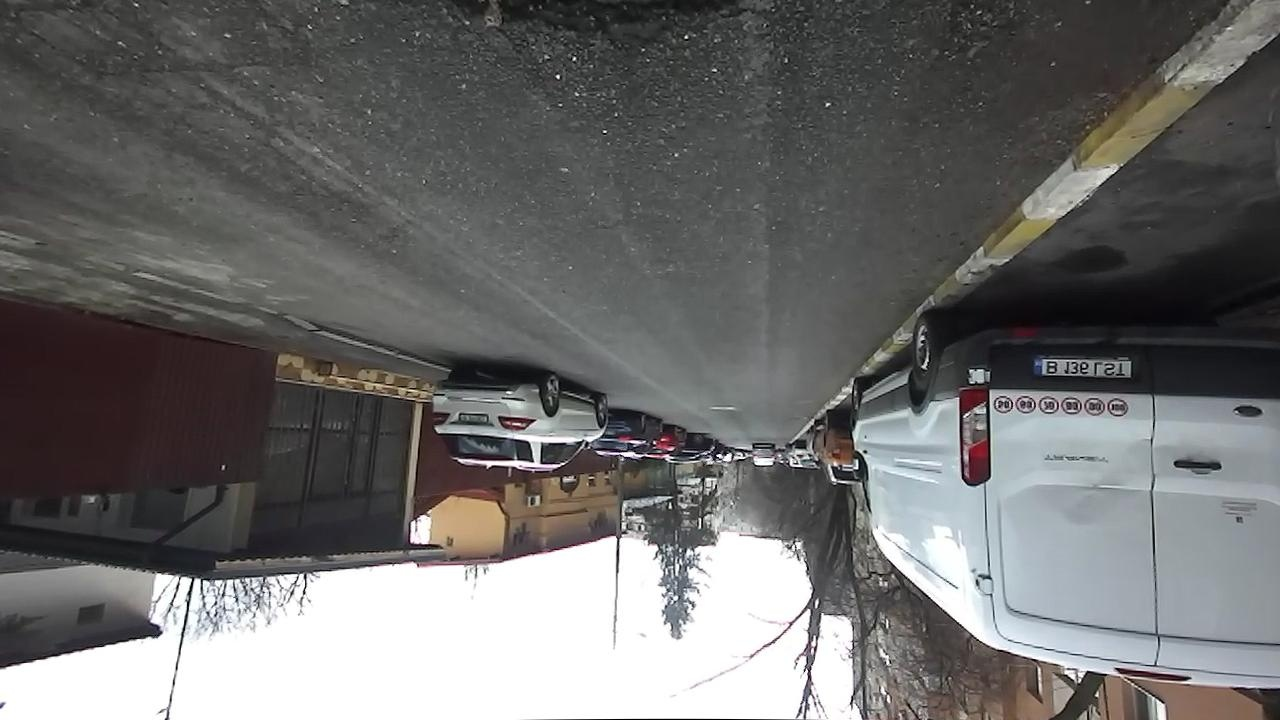pothole: (420, 0, 800, 48)
